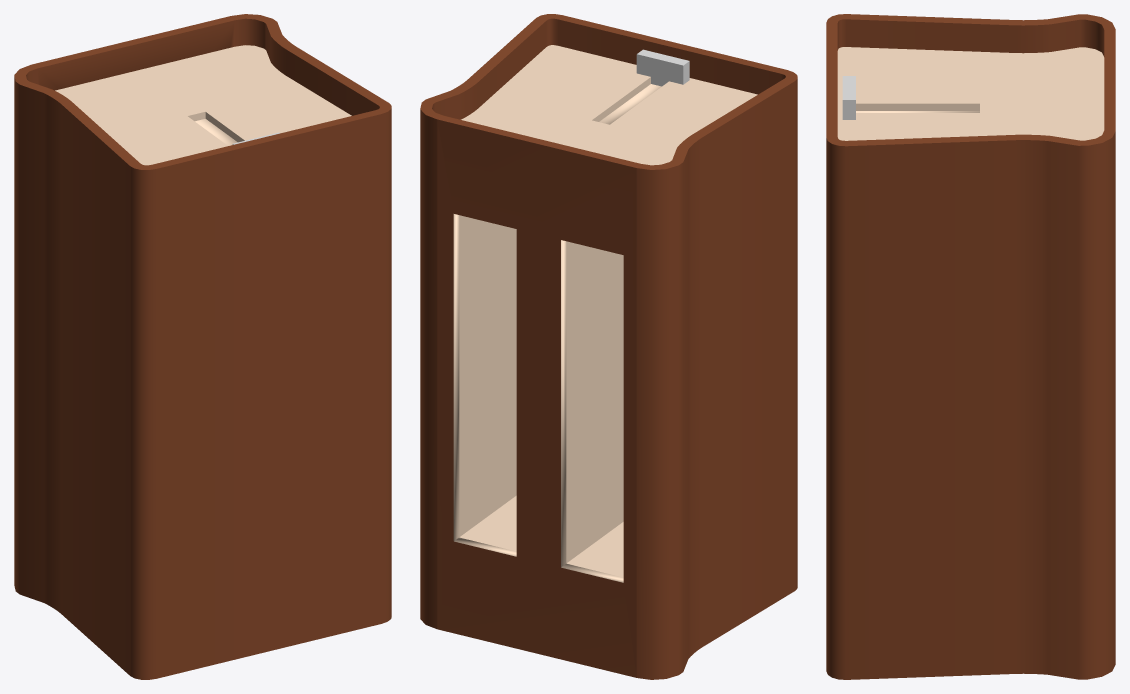
Rendered from toster_7.fbx.
3 renders of one model, left to right at view 1: azimuth 30°, elevation 25°; view 2: azimuth 150°, elevation 25°; view 3: azimuth 270°, elevation 25°, orthographic. The views are drawn at different scales.
Visible parts, largest first — view 1: toster_7; view 2: toster_7, Cube.001; view 3: toster_7, Cube.001.
Part boxes in pixels (left/top/right/bottom): toster_7: left=14, top=14, right=391, bottom=679; toster_7: left=420, top=14, right=797, bottom=679; Cube.001: left=636, top=49, right=689, bottom=86; toster_7: left=826, top=14, right=1115, bottom=679; Cube.001: left=842, top=76, right=855, bottom=119.
Bounding box in the file's own units: 200 × 376 × 185.
